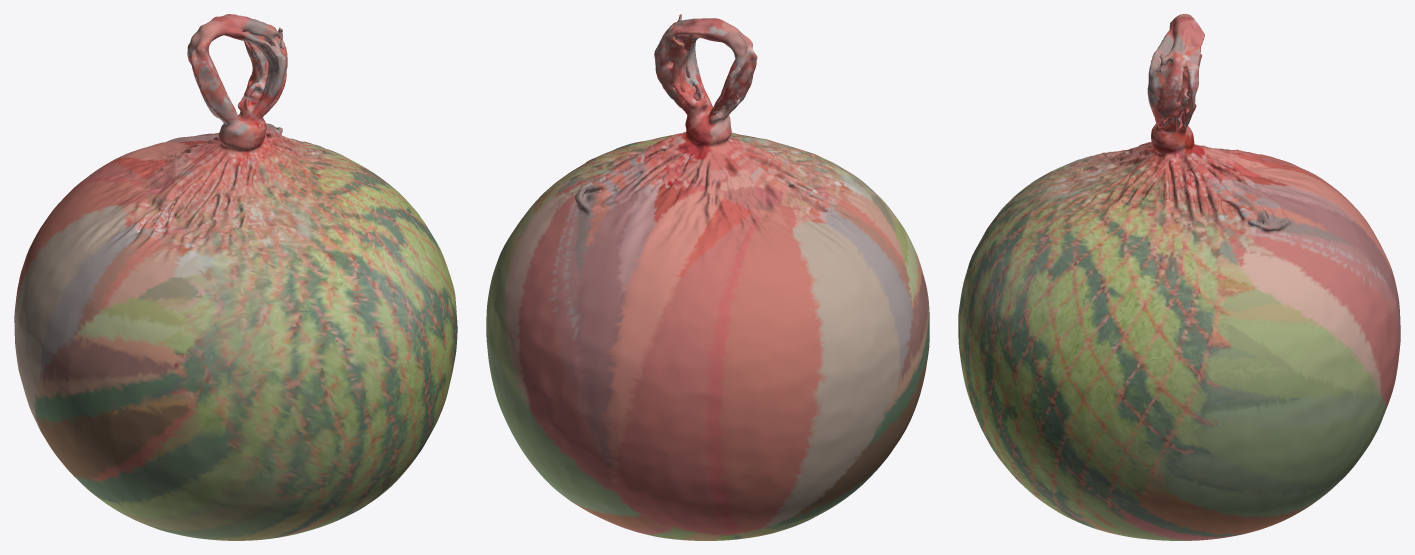
The model's file is watermelon_net.glb.
3 renders of one model, left to right at view 1: azimuth 30°, elevation 25°; view 2: azimuth 150°, elevation 25°; view 3: azimuth 270°, elevation 25°, orthographic.
Parts seen in each view (by area): view 1: geometry_0; view 2: geometry_0; view 3: geometry_0.
Boxes of the visible parts, x1,y1,x2,y2 form: geometry_0: (14,14,457,540); geometry_0: (486,14,929,540); geometry_0: (958,14,1400,540).
Bounding box in the file's own units: 0.2285 × 0.28 × 0.2296.
